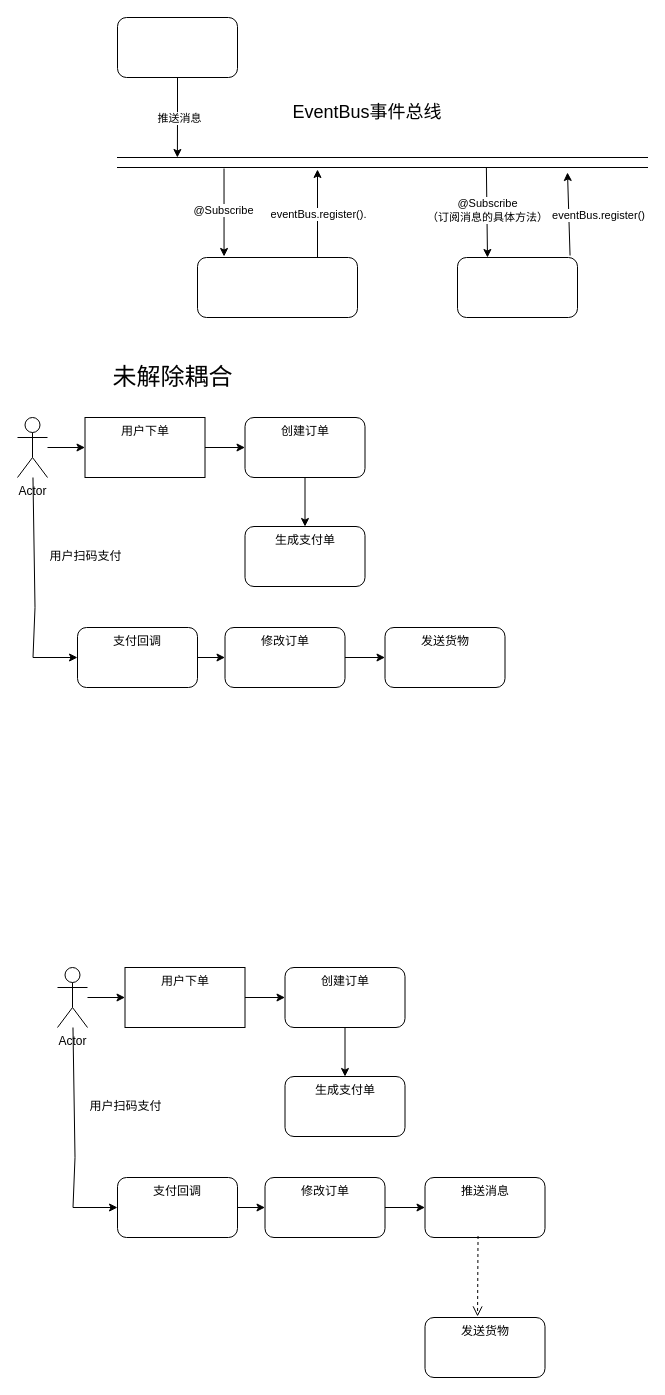
Some shapes in this 665 by 1395 pixel diagram are drawn without their labels. The centre of each missing label's shape, as x and y in pixels:
"Event.Post(message)" belongs at point (177, 47).
"Subscriber1 （事件订阅者1）" belongs at point (277, 287).
"Subscriber2 （事件订阅者2）" belongs at point (517, 287).
